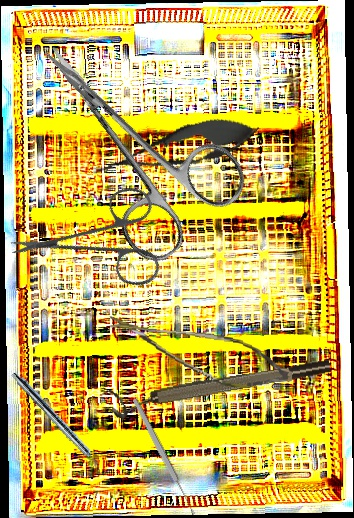Fixation Ring: (109, 355, 333, 421)
Handpiece: (8, 370, 107, 474)
Iris Scissors: (1, 3, 257, 272), (6, 146, 193, 334)
Micro Scissor: (86, 106, 264, 193), (101, 315, 297, 393)
Surgical Spoon: (130, 397, 198, 517)
